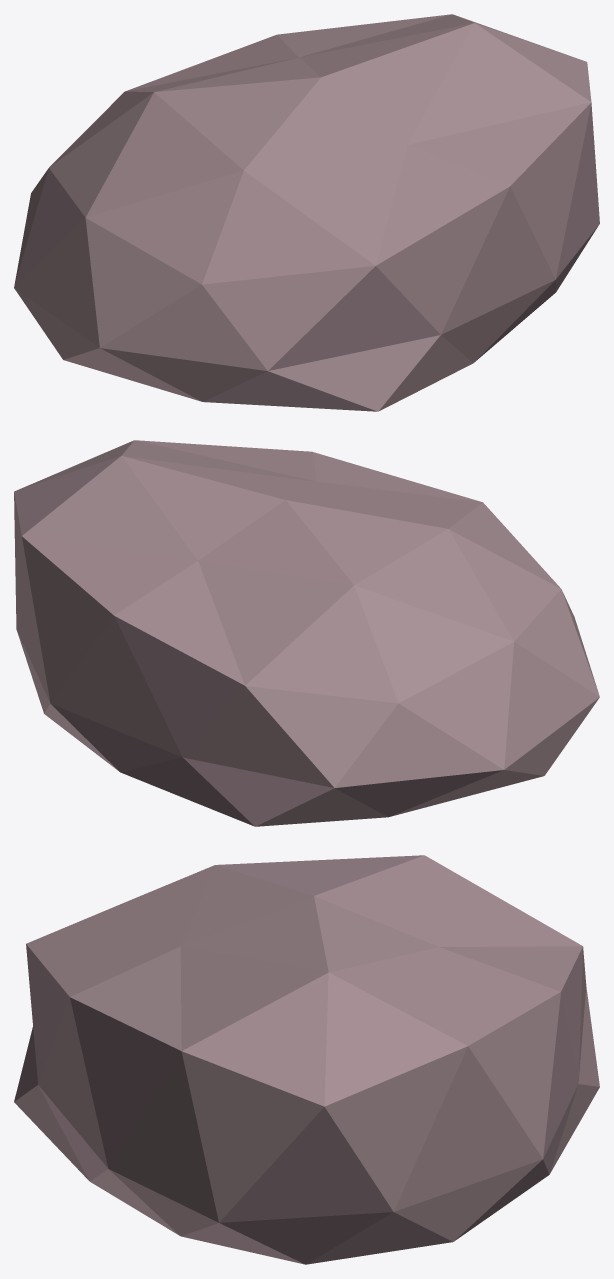
The model's file is foreground_boulder.glb.
3 renders of one model, top to bottom at view 1: azimuth 30°, elevation 25°; view 2: azimuth 150°, elevation 25°; view 3: azimuth 270°, elevation 25°, orthographic. The views are drawn at different scales.
Parts seen in each view (by area): view 1: ForegroundBoulder; view 2: ForegroundBoulder; view 3: ForegroundBoulder.
Part boxes in pixels (bbox=[...]): ForegroundBoulder: bbox=[14, 14, 599, 411]; ForegroundBoulder: bbox=[14, 440, 599, 826]; ForegroundBoulder: bbox=[14, 855, 599, 1264].
Size of the model in its own units: 2.84 by 1.23 by 2.35.
